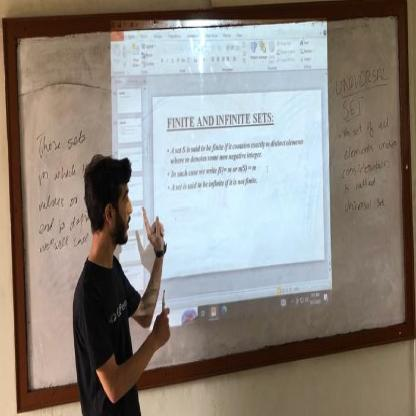Handwritten text: (30, 226, 95, 261), (335, 111, 400, 145), (29, 206, 93, 239), (333, 62, 389, 95), (341, 132, 400, 160), (37, 124, 89, 153), (337, 155, 392, 181), (341, 188, 389, 217), (37, 159, 79, 187), (339, 172, 382, 197), (36, 189, 79, 212), (339, 95, 365, 120)
Lecturer: (62, 148, 171, 408)
Whiteboard: (12, 13, 410, 391)
